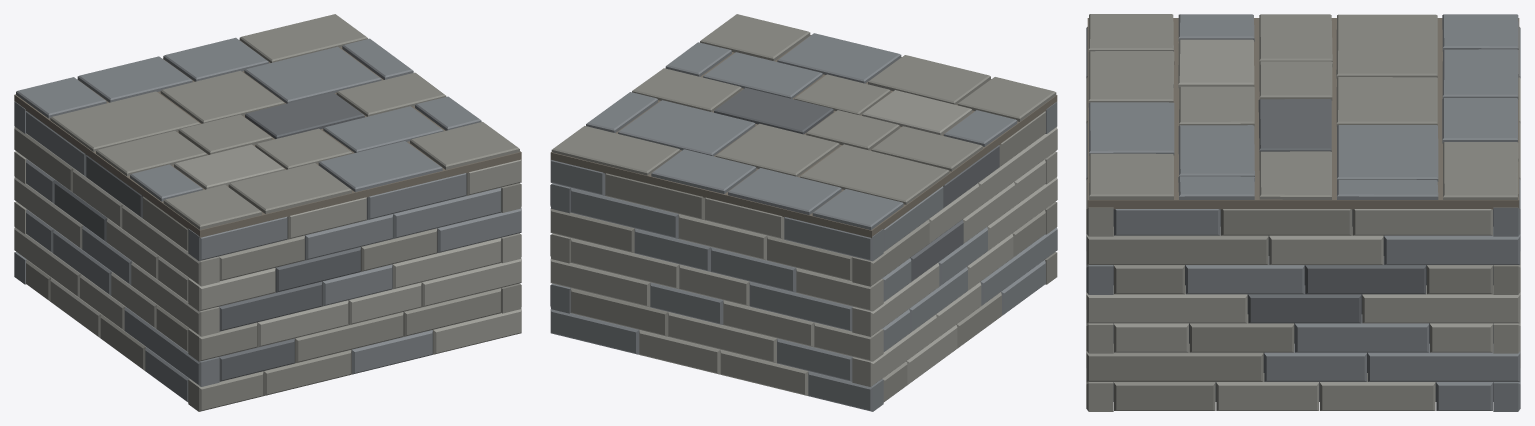
Rendered from SM_LPD_Struct_StairLanding_01.fbx.
The picture shows the model from 3 angles, left to right: view 1: azimuth 30°, elevation 25°; view 2: azimuth 150°, elevation 25°; view 3: azimuth 270°, elevation 25°; orthographic projection. The views are drawn at different scales.
Parts seen in each view (by area): view 1: SM_LPD_Struct_StairLanding_01; view 2: SM_LPD_Struct_StairLanding_01; view 3: SM_LPD_Struct_StairLanding_01.
Boxes of the visible parts, bbox=[...] form: SM_LPD_Struct_StairLanding_01: bbox=[14, 14, 521, 411]; SM_LPD_Struct_StairLanding_01: bbox=[550, 14, 1057, 411]; SM_LPD_Struct_StairLanding_01: bbox=[1086, 14, 1520, 411].
Bounding box in the file's own units: 4 × 2.2 × 4.
